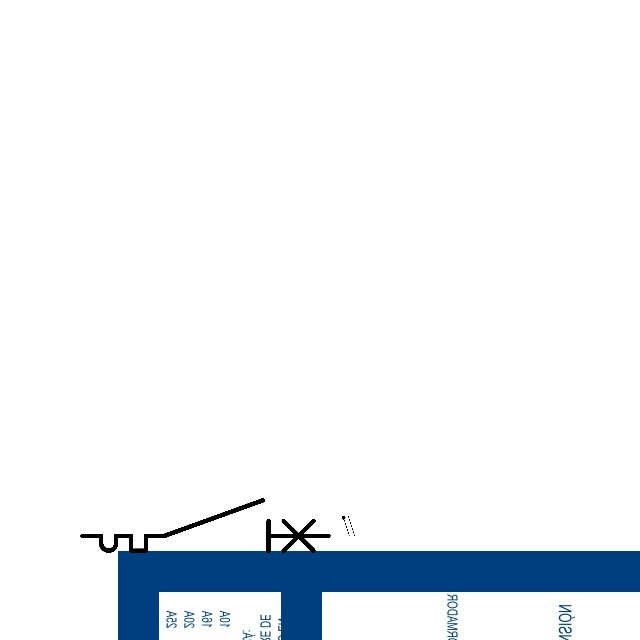interruptor_termomagnetico: (76, 494, 335, 557)
